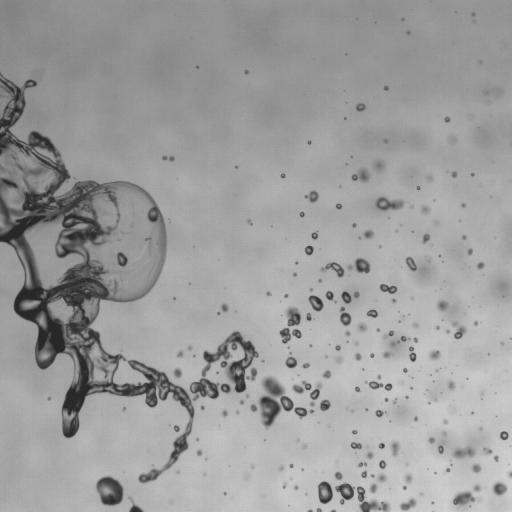droplet: (278, 306, 302, 343), (452, 483, 482, 508), (347, 257, 370, 273), (452, 445, 476, 459), (351, 167, 370, 183), (308, 294, 324, 311), (451, 321, 466, 339), (399, 496, 417, 511), (339, 306, 351, 326), (491, 481, 507, 495), (341, 291, 359, 303), (285, 352, 297, 370), (389, 440, 400, 457), (372, 159, 385, 173), (304, 190, 319, 202), (405, 256, 417, 271), (324, 290, 337, 303), (319, 399, 331, 411), (436, 300, 448, 311), (22, 88, 33, 99), (9, 124, 20, 135), (18, 131, 29, 142), (76, 171, 87, 182), (60, 181, 71, 192), (414, 194, 425, 205), (300, 199, 311, 210), (15, 266, 26, 277), (271, 287, 282, 298), (284, 297, 295, 308), (297, 304, 308, 315), (277, 317, 288, 328), (297, 319, 308, 330), (27, 323, 38, 334), (343, 345, 354, 356), (340, 346, 351, 357), (438, 371, 449, 382), (251, 378, 262, 389), (83, 393, 94, 404), (291, 394, 302, 405), (77, 407, 88, 418), (252, 410, 263, 421), (355, 448, 366, 459), (379, 448, 390, 459), (472, 452, 483, 463), (462, 455, 473, 466), (367, 462, 378, 473), (470, 472, 481, 483), (360, 477, 371, 488), (460, 481, 471, 492), (482, 485, 493, 496), (348, 496, 359, 507), (119, 498, 130, 509), (362, 229, 374, 239), (366, 308, 378, 318), (428, 350, 440, 360), (172, 367, 182, 379), (470, 463, 481, 473), (446, 379, 455, 391), (447, 134, 457, 144), (357, 322, 367, 332), (499, 430, 509, 440), (355, 102, 366, 111), (374, 409, 386, 417), (420, 205, 430, 214), (304, 245, 313, 255), (322, 369, 331, 379), (422, 233, 430, 244), (350, 442, 362, 449), (366, 166, 375, 175), (53, 188, 62, 197), (424, 212, 433, 221), (355, 225, 364, 234), (326, 268, 335, 277), (11, 285, 20, 294), (332, 290, 341, 299), (441, 308, 450, 317), (403, 317, 412, 326), (89, 321, 98, 330), (347, 321, 356, 330), (464, 322, 473, 331), (215, 335, 224, 344), (207, 344, 216, 353), (173, 358, 182, 367), (250, 358, 259, 367), (431, 358, 440, 367), (255, 372, 264, 381), (167, 373, 176, 382), (360, 383, 369, 392), (284, 388, 293, 397), (56, 393, 65, 402), (121, 394, 130, 403), (201, 395, 210, 404), (190, 399, 199, 408), (457, 440, 466, 449), (473, 445, 482, 454), (443, 446, 452, 455), (178, 450, 187, 459), (329, 478, 338, 487), (331, 490, 340, 499), (363, 492, 372, 501), (321, 502, 330, 511), (482, 447, 492, 455), (334, 471, 342, 481), (382, 351, 393, 358), (220, 303, 228, 312), (304, 312, 312, 321), (379, 460, 387, 469), (505, 478, 511, 489), (105, 505, 116, 511), (337, 505, 348, 511), (389, 505, 400, 511), (455, 505, 466, 511), (425, 174, 433, 182), (476, 261, 484, 269), (427, 436, 435, 444), (311, 230, 318, 239), (354, 352, 361, 361), (334, 356, 343, 363), (301, 362, 310, 369), (176, 350, 184, 357), (221, 409, 228, 417), (377, 442, 385, 449), (0, 153, 5, 164), (0, 219, 5, 230), (0, 240, 5, 251), (424, 256, 431, 263), (173, 425, 180, 432), (443, 467, 450, 474), (292, 484, 299, 491), (16, 80, 23, 87), (31, 124, 38, 131), (39, 129, 46, 136), (49, 136, 56, 143), (377, 153, 384, 160), (384, 162, 391, 169), (418, 179, 425, 186), (386, 194, 393, 201), (424, 199, 431, 206), (157, 204, 164, 211), (413, 205, 420, 212), (386, 207, 393, 214), (419, 212, 426, 219), (164, 223, 171, 230), (307, 238, 314, 245), (165, 240, 172, 247), (164, 248, 171, 255), (163, 258, 170, 265), (161, 264, 168, 271), (291, 264, 298, 271), (318, 271, 325, 278), (157, 274, 164, 281), (319, 294, 326, 301), (440, 294, 447, 301), (8, 295, 15, 302), (99, 298, 106, 305), (337, 298, 344, 305), (430, 301, 437, 308), (227, 304, 234, 311), (445, 304, 452, 311), (310, 309, 317, 316), (437, 309, 444, 316), (299, 314, 306, 321), (16, 315, 23, 322), (457, 319, 464, 326), (449, 326, 456, 333), (224, 329, 231, 336), (392, 333, 399, 340), (275, 334, 282, 341), (406, 339, 413, 346), (179, 344, 186, 351), (383, 344, 390, 351), (354, 345, 361, 352), (351, 346, 358, 353), (182, 349, 189, 356), (55, 352, 62, 359), (361, 352, 368, 359), (438, 352, 445, 359), (125, 353, 132, 360), (200, 359, 207, 366), (356, 359, 363, 366), (295, 361, 302, 368), (46, 364, 53, 371), (155, 364, 162, 371), (243, 368, 250, 375), (193, 374, 200, 381), (451, 375, 458, 382), (320, 376, 327, 383), (405, 378, 412, 385), (453, 379, 460, 386), (62, 384, 69, 391), (377, 386, 384, 393), (229, 388, 236, 395), (303, 389, 310, 396), (237, 391, 244, 398), (397, 394, 404, 401), (314, 397, 321, 404), (243, 400, 250, 407), (180, 406, 187, 413), (255, 406, 262, 413), (193, 407, 200, 414), (278, 408, 285, 415), (227, 409, 234, 416), (178, 426, 185, 433), (74, 430, 81, 437), (392, 434, 399, 441), (185, 435, 192, 442), (431, 441, 438, 448), (167, 444, 174, 451), (383, 444, 390, 451), (163, 452, 170, 459), (172, 461, 179, 468), (154, 462, 161, 469), (404, 466, 411, 473), (142, 467, 149, 474), (375, 467, 382, 474), (381, 467, 388, 474), (101, 470, 108, 477), (111, 472, 118, 479), (370, 476, 377, 483), (118, 478, 125, 485), (335, 478, 342, 485), (146, 479, 153, 486), (350, 480, 357, 487), (376, 481, 383, 488), (286, 482, 293, 489), (363, 484, 370, 491), (121, 490, 128, 497), (470, 490, 477, 497), (449, 491, 456, 498), (491, 492, 498, 499), (499, 492, 506, 499), (414, 495, 421, 502), (94, 496, 101, 503), (401, 496, 408, 503), (135, 500, 142, 507), (319, 502, 326, 509), (473, 320, 481, 326), (438, 445, 443, 454), (451, 171, 457, 178), (246, 218, 252, 225), (432, 220, 439, 226), (187, 344, 193, 351), (335, 344, 341, 351), (361, 470, 367, 477), (243, 473, 249, 480), (444, 116, 450, 122), (336, 203, 342, 209), (299, 211, 305, 217), (412, 322, 418, 328), (444, 328, 450, 334), (344, 330, 350, 336), (354, 386, 360, 392), (238, 399, 244, 405), (442, 418, 448, 424), (441, 430, 447, 436), (301, 443, 307, 449), (196, 449, 202, 455), (278, 465, 284, 471), (0, 213, 4, 222), (467, 248, 472, 255), (352, 341, 359, 346), (392, 397, 397, 404), (493, 455, 498, 462), (369, 352, 374, 358), (352, 429, 357, 435), (250, 463, 255, 469), (507, 433, 511, 440), (406, 507, 413, 511), (244, 69, 249, 74), (483, 90, 488, 95), (280, 173, 285, 178), (461, 234, 466, 239), (292, 271, 297, 276), (283, 293, 288, 298), (391, 298, 396, 303), (434, 325, 439, 330), (499, 341, 504, 346), (376, 374, 381, 379), (398, 379, 403, 384), (413, 416, 418, 421), (31, 75, 36, 80), (354, 99, 359, 104), (22, 107, 27, 112), (356, 110, 361, 115), (19, 114, 24, 119), (165, 152, 170, 157), (157, 153, 162, 158), (173, 157, 178, 162), (346, 157, 351, 162), (164, 158, 169, 163), (64, 164, 69, 169), (448, 167, 453, 172), (353, 169, 358, 174), (456, 171, 461, 176), (446, 172, 451, 177), (455, 174, 460, 179), (122, 176, 127, 181), (130, 178, 135, 183), (355, 178, 360, 183), (97, 179, 102, 184), (135, 180, 140, 185), (144, 186, 149, 191), (304, 189, 309, 194), (316, 189, 321, 194), (149, 191, 154, 196), (377, 192, 382, 197), (373, 194, 378, 199), (304, 197, 309, 202), (314, 199, 319, 204), (370, 201, 375, 206), (403, 202, 408, 207), (162, 216, 167, 221), (463, 230, 468, 235), (418, 235, 423, 240), (361, 236, 366, 241), (457, 236, 462, 241), (465, 236, 470, 241), (425, 239, 430, 244), (466, 243, 471, 248), (462, 248, 467, 253), (471, 250, 476, 255), (403, 252, 408, 257), (358, 253, 363, 258), (306, 254, 311, 259), (364, 256, 369, 261), (328, 257, 333, 262), (476, 257, 481, 262), (413, 258, 418, 263), (340, 263, 345, 268), (403, 264, 408, 269), (482, 264, 487, 269), (368, 265, 373, 270), (479, 267, 484, 272), (360, 270, 365, 275), (154, 280, 159, 285), (152, 284, 157, 289), (149, 288, 154, 293), (348, 290, 353, 295), (358, 291, 363, 296), (261, 292, 266, 297), (391, 292, 396, 297), (144, 293, 149, 298), (350, 296, 355, 301), (135, 298, 140, 303), (9, 299, 14, 304), (223, 299, 228, 304), (126, 300, 131, 305), (115, 301, 120, 306), (216, 306, 221, 311), (320, 307, 325, 312), (343, 307, 348, 312), (97, 310, 102, 315), (336, 311, 341, 316), (349, 312, 354, 317), (451, 316, 456, 321), (436, 320, 441, 325), (337, 321, 342, 326), (344, 324, 349, 329), (438, 327, 443, 332), (461, 333, 466, 338), (290, 334, 295, 339), (98, 335, 103, 340), (343, 335, 348, 340), (503, 337, 508, 342), (286, 340, 291, 345), (410, 341, 415, 346), (330, 343, 335, 348), (253, 345, 258, 350), (433, 345, 438, 350), (173, 348, 178, 353), (189, 349, 194, 354), (110, 350, 115, 355), (335, 350, 340, 355), (121, 351, 126, 356), (198, 352, 203, 357), (291, 352, 296, 357), (350, 354, 355, 359), (281, 356, 286, 361), (137, 357, 142, 362), (383, 357, 388, 362), (353, 359, 358, 364), (144, 361, 149, 366), (32, 362, 37, 367), (285, 366, 290, 371), (291, 366, 296, 371), (320, 368, 325, 373), (429, 368, 434, 373), (180, 369, 185, 374), (329, 369, 334, 374), (306, 378, 311, 383), (376, 378, 381, 383), (381, 380, 386, 385), (443, 383, 448, 388), (310, 385, 315, 390), (185, 388, 190, 393), (103, 391, 108, 396), (435, 392, 440, 397), (307, 397, 312, 402), (387, 397, 392, 402), (156, 398, 161, 403), (175, 400, 180, 405), (292, 402, 297, 407), (237, 404, 242, 409), (305, 405, 310, 410), (289, 408, 294, 413), (324, 408, 329, 413), (217, 411, 222, 416), (293, 413, 298, 418), (381, 413, 386, 418), (301, 415, 306, 420), (446, 416, 451, 421), (260, 424, 265, 429), (351, 424, 356, 429), (442, 424, 447, 429), (57, 426, 62, 431), (190, 426, 195, 431), (169, 427, 174, 432), (495, 430, 500, 435), (427, 432, 432, 437), (59, 433, 64, 438), (424, 434, 429, 439), (299, 438, 304, 443), (354, 438, 359, 443), (377, 438, 382, 443), (498, 438, 503, 443), (360, 441, 365, 446), (425, 441, 430, 446), (296, 442, 301, 447), (433, 447, 438, 452), (396, 448, 401, 453), (201, 451, 206, 456), (489, 452, 494, 457), (364, 457, 369, 462), (479, 463, 484, 468), (284, 464, 289, 469), (360, 465, 365, 470), (506, 466, 511, 471), (338, 468, 343, 473), (477, 470, 482, 475), (365, 471, 370, 476), (134, 472, 139, 477), (156, 474, 161, 479), (316, 478, 321, 483), (410, 478, 415, 483), (401, 480, 406, 485), (138, 481, 143, 486), (405, 483, 410, 488), (297, 486, 302, 491), (313, 490, 318, 495), (352, 490, 357, 495), (314, 496, 319, 501), (448, 500, 453, 505), (265, 291, 271, 295), (470, 12, 475, 16), (384, 85, 388, 90), (307, 140, 311, 145), (461, 203, 466, 207), (318, 278, 322, 283), (402, 368, 407, 372), (480, 390, 484, 395), (384, 397, 388, 402), (200, 405, 204, 410), (122, 406, 126, 411), (235, 410, 240, 414), (289, 464, 294, 468), (311, 507, 316, 511), (406, 30, 410, 34), (478, 60, 482, 64), (234, 165, 238, 169), (470, 172, 474, 176), (416, 186, 420, 190), (352, 223, 356, 227), (378, 244, 382, 248), (294, 261, 298, 265), (309, 288, 313, 292), (410, 296, 414, 300), (405, 395, 409, 399), (47, 396, 51, 400), (350, 409, 354, 413), (470, 410, 474, 414), (195, 437, 199, 441), (384, 138, 387, 143), (401, 17, 404, 21), (410, 204, 413, 208), (217, 311, 220, 315), (376, 328, 380, 331), (260, 359, 264, 362), (409, 386, 413, 389), (296, 438, 299, 442), (405, 462, 408, 466), (176, 470, 180, 473), (289, 477, 293, 480), (304, 492, 308, 495), (419, 492, 423, 495), (430, 501, 434, 504), (196, 65, 199, 68), (350, 155, 353, 158), (338, 185, 341, 188), (395, 229, 398, 232), (411, 230, 414, 233), (358, 236, 361, 239), (438, 254, 441, 257), (172, 296, 175, 299), (309, 344, 312, 347), (287, 346, 290, 349), (192, 354, 195, 357), (324, 355, 327, 358), (365, 408, 368, 411), (479, 427, 482, 430), (300, 468, 303, 471), (203, 472, 206, 475), (223, 492, 226, 495), (471, 16, 474, 19), (195, 62, 198, 65), (198, 65, 201, 68), (193, 67, 196, 70), (246, 67, 249, 70), (241, 71, 244, 74), (245, 73, 248, 76), (27, 76, 30, 79), (24, 77, 27, 80), (384, 82, 387, 85), (380, 85, 383, 88), (383, 89, 386, 92), (363, 101, 366, 104), (343, 113, 346, 116), (340, 116, 343, 119), (346, 116, 349, 119), (441, 118, 444, 121), (449, 118, 452, 121), (343, 119, 346, 122), (445, 121, 448, 124), (307, 137, 310, 140), (304, 140, 307, 143), (310, 141, 313, 144), (348, 152, 351, 155), (231, 164, 234, 167), (237, 165, 240, 168), (232, 167, 235, 170), (280, 170, 283, 173), (277, 172, 280, 175), (284, 174, 287, 177), (468, 174, 471, 177), (472, 175, 475, 178), (348, 176, 351, 179), (281, 177, 284, 180), (111, 178, 114, 181), (139, 184, 142, 187), (413, 185, 416, 188), (419, 185, 422, 188), (417, 189, 420, 192), (301, 194, 304, 197), (337, 200, 340, 203), (462, 200, 465, 203), (332, 204, 335, 207), (464, 205, 467, 208), (334, 207, 337, 210), (461, 207, 464, 210), (337, 208, 340, 211), (303, 210, 306, 213), (297, 215, 300, 218), (302, 215, 305, 218), (250, 219, 253, 222), (350, 220, 353, 223), (354, 220, 357, 223), (246, 223, 249, 226), (251, 224, 254, 227), (349, 224, 352, 227), (355, 224, 358, 227), (409, 227, 412, 230), (311, 229, 314, 232), (316, 231, 319, 234), (459, 233, 462, 236), (316, 236, 319, 239), (462, 239, 465, 242), (375, 244, 378, 247), (378, 247, 381, 250), (312, 248, 315, 251), (302, 251, 305, 254), (311, 251, 314, 254), (435, 252, 438, 255), (440, 253, 443, 256), (15, 256, 18, 259), (439, 256, 442, 259), (292, 259, 295, 262), (17, 260, 20, 263), (297, 260, 300, 263), (336, 260, 339, 263), (292, 263, 295, 266), (296, 263, 299, 266), (415, 268, 418, 271), (292, 269, 295, 272), (296, 271, 299, 274), (289, 272, 292, 275), (294, 275, 297, 278), (321, 278, 324, 281), (315, 280, 318, 283), (387, 283, 390, 286), (309, 284, 312, 287), (377, 287, 380, 290), (265, 288, 268, 291), (269, 290, 272, 293), (284, 290, 287, 293), (281, 292, 284, 295), (287, 294, 290, 297), (169, 295, 172, 298), (267, 295, 270, 298), (175, 296, 178, 299), (305, 297, 308, 300), (171, 299, 174, 302), (392, 302, 395, 305), (369, 306, 372, 309), (365, 308, 368, 311), (376, 310, 379, 313), (213, 311, 216, 314), (404, 313, 407, 316), (368, 315, 371, 318), (375, 315, 378, 318), (407, 315, 410, 318), (397, 316, 400, 319), (400, 319, 403, 322), (471, 319, 474, 322), (477, 322, 480, 325), (432, 324, 435, 327), (373, 327, 376, 330), (390, 327, 393, 330), (433, 328, 436, 331), (401, 332, 404, 335), (388, 335, 391, 338), (416, 337, 419, 340), (458, 337, 461, 340), (399, 339, 402, 342), (308, 340, 311, 343), (186, 342, 189, 345), (281, 342, 284, 345), (311, 342, 314, 345), (497, 343, 500, 346), (339, 344, 342, 347), (308, 346, 311, 349), (339, 347, 342, 350), (288, 348, 291, 351), (412, 349, 415, 352), (487, 349, 490, 352), (371, 350, 374, 353), (484, 353, 487, 356), (373, 354, 376, 357), (488, 354, 491, 357), (367, 355, 370, 358), (415, 356, 418, 359), (370, 357, 373, 360), (407, 358, 410, 361), (308, 361, 311, 364), (400, 366, 403, 369), (304, 367, 307, 370), (358, 367, 361, 370), (438, 368, 441, 371), (361, 370, 364, 373), (401, 371, 404, 374), (405, 371, 408, 374), (431, 372, 434, 375), (429, 375, 432, 378), (467, 375, 470, 378), (462, 376, 465, 379), (464, 379, 467, 382), (388, 380, 391, 383), (355, 383, 358, 386), (391, 383, 394, 386), (352, 384, 355, 387), (358, 385, 361, 388), (412, 385, 415, 388), (427, 386, 430, 389), (369, 387, 372, 390), (390, 387, 393, 390), (355, 391, 358, 394), (425, 391, 428, 394), (406, 392, 409, 395), (402, 393, 405, 396), (44, 395, 47, 398), (481, 395, 484, 398), (403, 397, 406, 400), (381, 398, 384, 401), (45, 399, 48, 402), (48, 399, 51, 402), (395, 399, 398, 402), (479, 399, 482, 402), (430, 400, 433, 403), (144, 403, 147, 406), (393, 403, 396, 406), (426, 403, 429, 406), (364, 404, 367, 407), (119, 406, 122, 409), (203, 406, 206, 409), (310, 406, 313, 409), (348, 406, 351, 409), (125, 407, 128, 410), (361, 407, 364, 410), (381, 408, 384, 411), (468, 408, 471, 411), (472, 408, 475, 411), (364, 410, 367, 413), (238, 412, 241, 415), (471, 413, 474, 416), (374, 415, 377, 418), (411, 415, 414, 418), (417, 416, 420, 419), (413, 420, 416, 423), (440, 420, 443, 423), (175, 422, 178, 425), (170, 424, 173, 427), (500, 428, 503, 431), (504, 428, 507, 431), (356, 429, 359, 432), (198, 438, 201, 441), (260, 438, 263, 441), (502, 439, 505, 442), (264, 440, 267, 443), (442, 445, 445, 448), (489, 446, 492, 449), (350, 447, 353, 450), (354, 447, 357, 450), (377, 447, 380, 450), (381, 447, 384, 450), (442, 450, 445, 453), (497, 457, 500, 460), (361, 459, 364, 462), (492, 459, 495, 462), (289, 460, 292, 463), (376, 460, 379, 463), (384, 460, 387, 463), (300, 464, 303, 467), (376, 464, 379, 467), (384, 465, 387, 468), (448, 465, 451, 468), (443, 466, 446, 469), (290, 467, 293, 470), (303, 467, 306, 470), (433, 468, 436, 471), (298, 469, 301, 472), (436, 471, 439, 474), (432, 473, 435, 476), (358, 474, 361, 477), (279, 484, 282, 487), (297, 484, 300, 487), (399, 486, 402, 489), (223, 488, 226, 491), (402, 489, 405, 492), (220, 492, 223, 495), (432, 498, 435, 501), (429, 503, 432, 506), (432, 503, 435, 506), (345, 163, 348, 165), (399, 224, 402, 226), (188, 282, 190, 285), (235, 310, 237, 313), (346, 340, 348, 343), (487, 353, 490, 355), (216, 371, 218, 374), (264, 438, 266, 441), (205, 457, 207, 460), (433, 472, 436, 474), (509, 334, 511, 337), (509, 339, 511, 342), (345, 53, 347, 55), (345, 101, 347, 103), (344, 117, 346, 119), (73, 177, 75, 179), (433, 199, 435, 201), (397, 310, 399, 312), (408, 313, 410, 315), (509, 337, 511, 339), (362, 368, 364, 370), (297, 374, 299, 376), (411, 376, 413, 378), (466, 377, 468, 379), (291, 378, 293, 380), (432, 380, 434, 382), (494, 392, 496, 394), (317, 421, 319, 423), (389, 420, 391, 422), (328, 343, 329, 345), (509, 445, 511, 446), (502, 296, 503, 297), (440, 392, 441, 393)
ligament: (375, 196, 405, 211), (320, 262, 344, 277), (388, 336, 418, 347), (364, 380, 393, 391), (402, 472, 413, 490), (379, 283, 397, 293), (408, 346, 416, 362), (382, 330, 394, 340), (162, 155, 174, 161), (398, 314, 405, 323), (357, 461, 367, 467), (282, 480, 287, 489), (507, 469, 511, 478), (435, 367, 441, 372), (315, 507, 322, 511), (449, 459, 452, 466), (335, 460, 338, 466), (329, 509, 337, 511), (306, 509, 313, 511), (168, 423, 170, 426), (432, 510, 435, 511)
